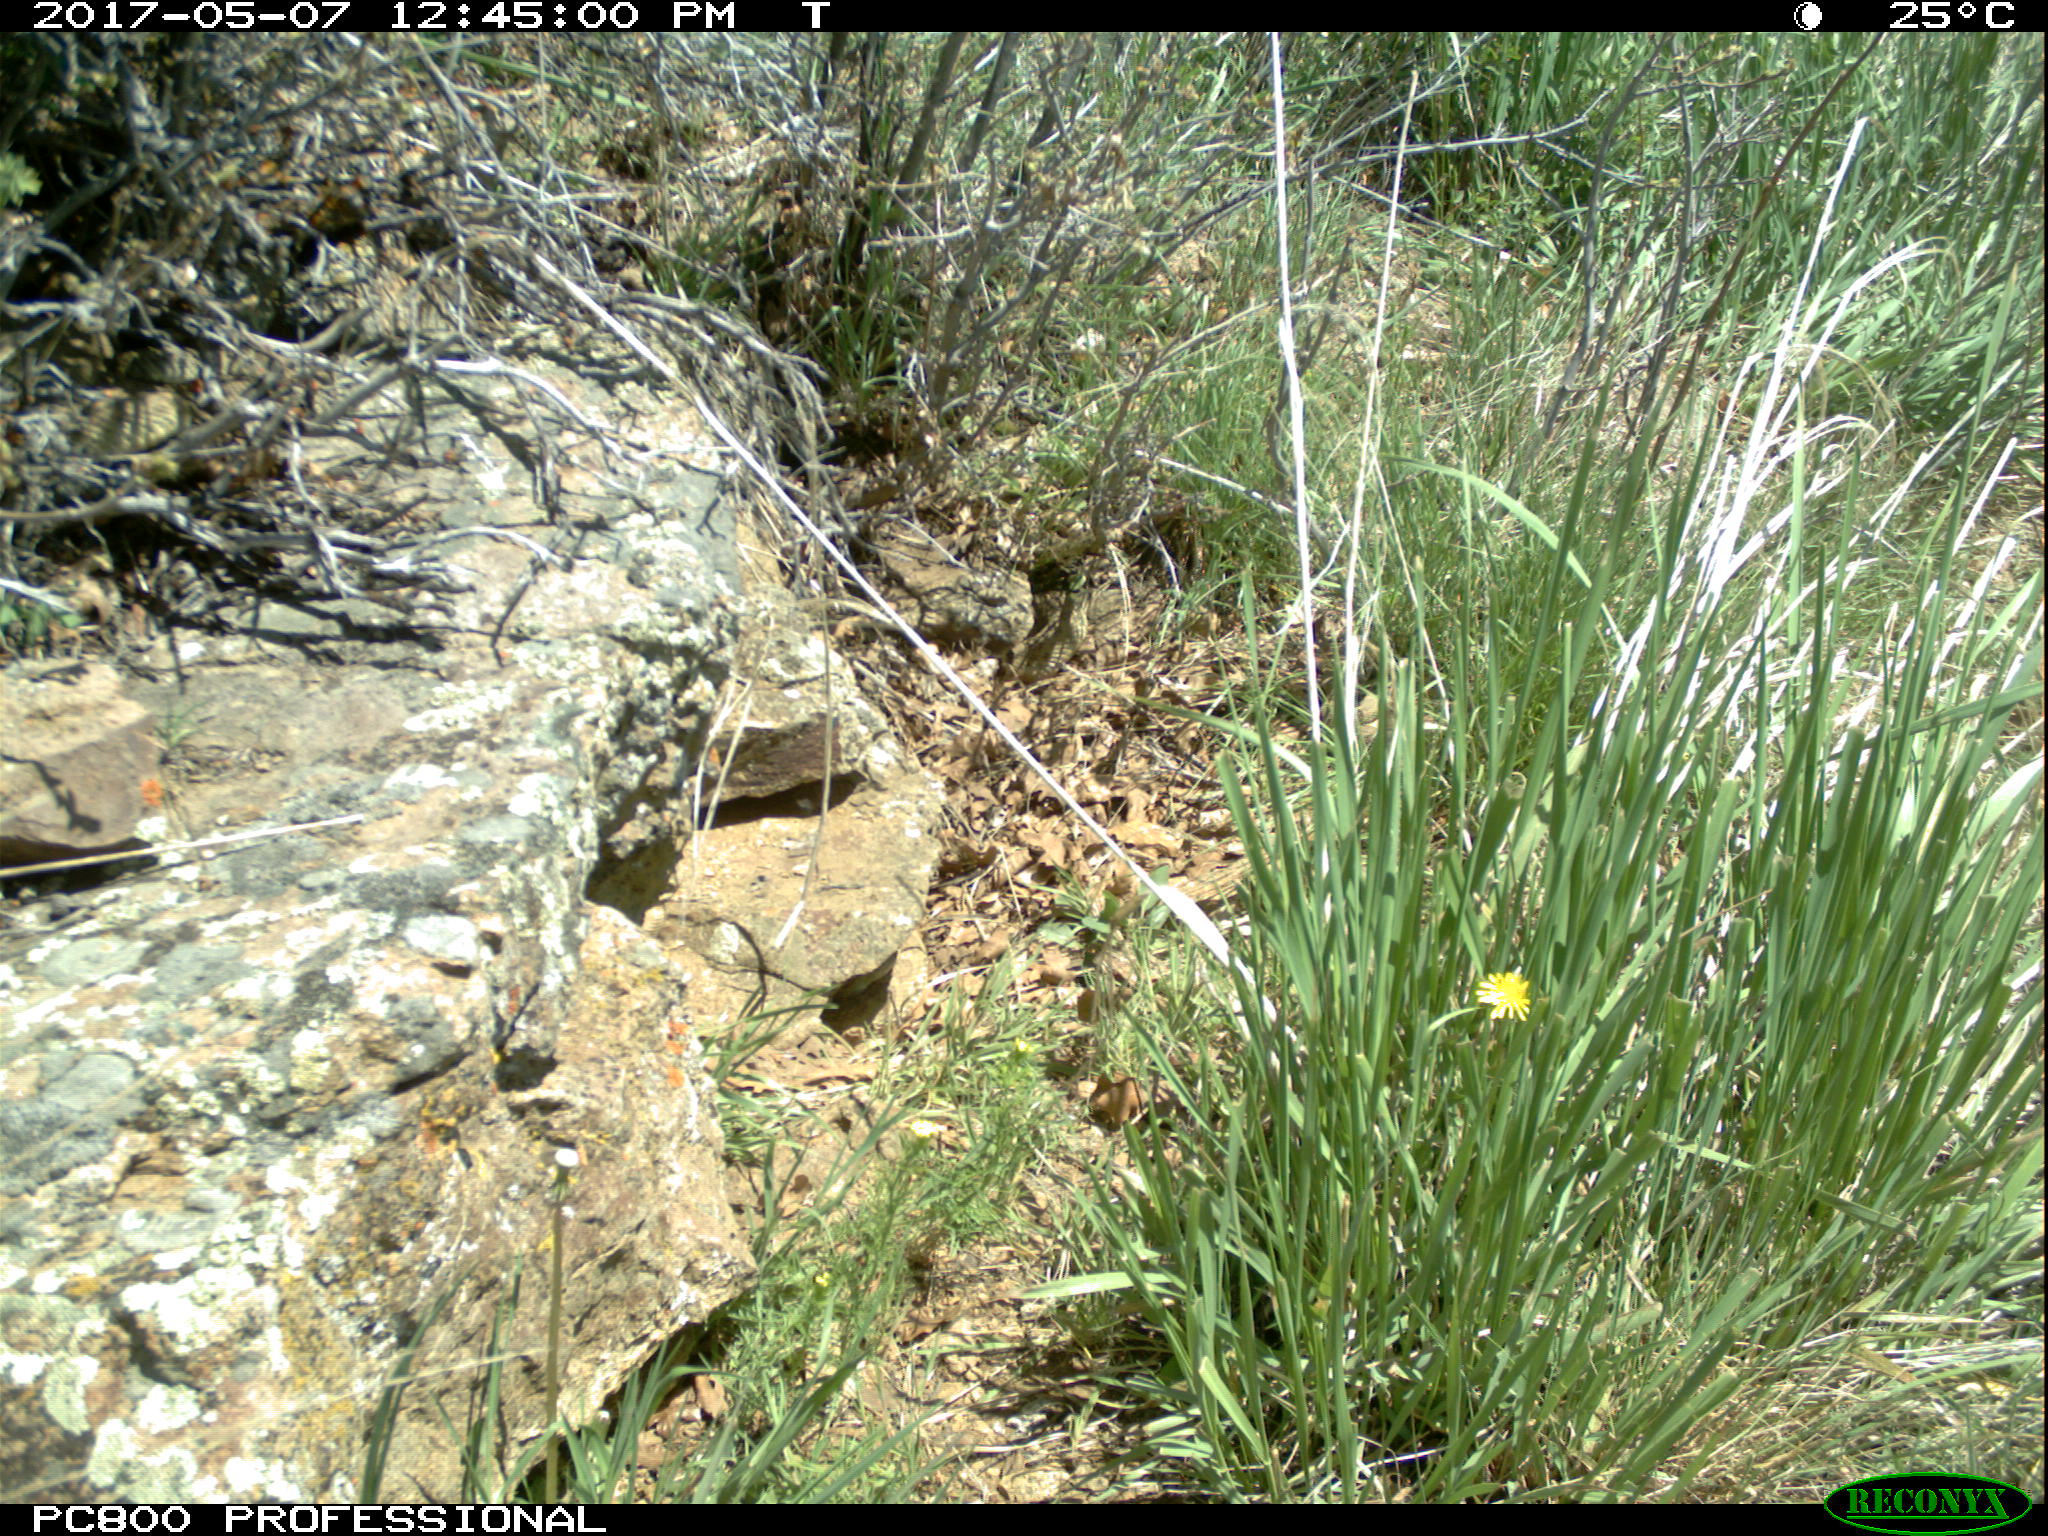snake: (52, 368, 231, 478), (1009, 587, 1147, 681)
